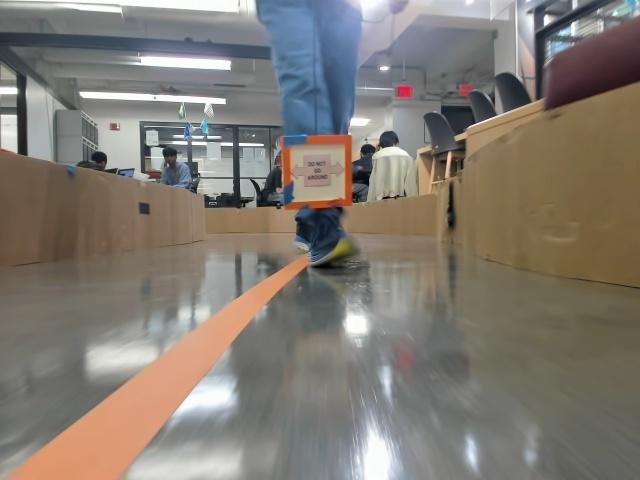Do Not Go Around: (290, 155, 341, 187)
